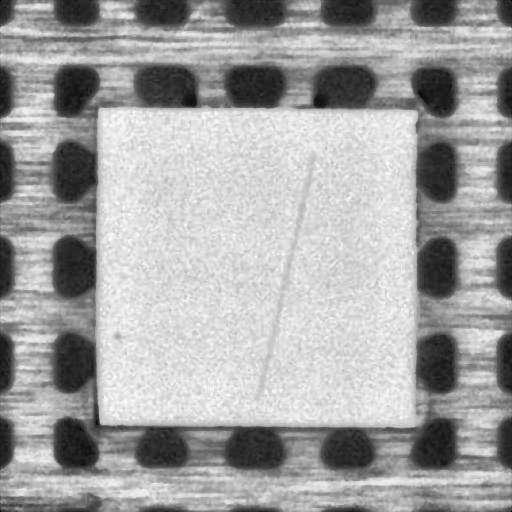DIE_CRACK: (257, 153, 313, 397)
